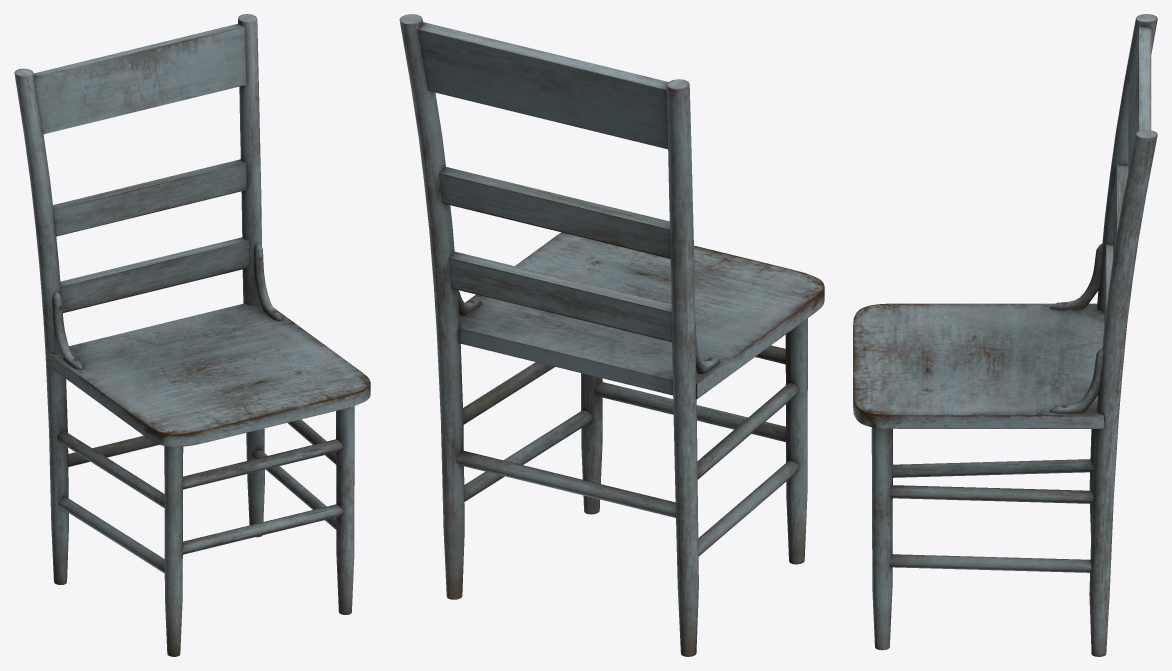
Rendered from painted_wooden_chair_02.glb.
3 views of the same model, side by side, from view 1: azimuth 30°, elevation 25°; view 2: azimuth 150°, elevation 25°; view 3: azimuth 270°, elevation 25° (orthographic). The views are drawn at different scales.
Parts seen in each view (by area): view 1: painted_wooden_chair_02; view 2: painted_wooden_chair_02; view 3: painted_wooden_chair_02.
Boxes of the visible parts, x1,y1,x2,y2 form: painted_wooden_chair_02: [14, 14, 370, 656]; painted_wooden_chair_02: [399, 14, 824, 656]; painted_wooden_chair_02: [853, 14, 1157, 656].
Bounding box in the file's own units: 0.6394 × 1.26 × 0.6621.
Materials: 1 (1 with a texture image).
